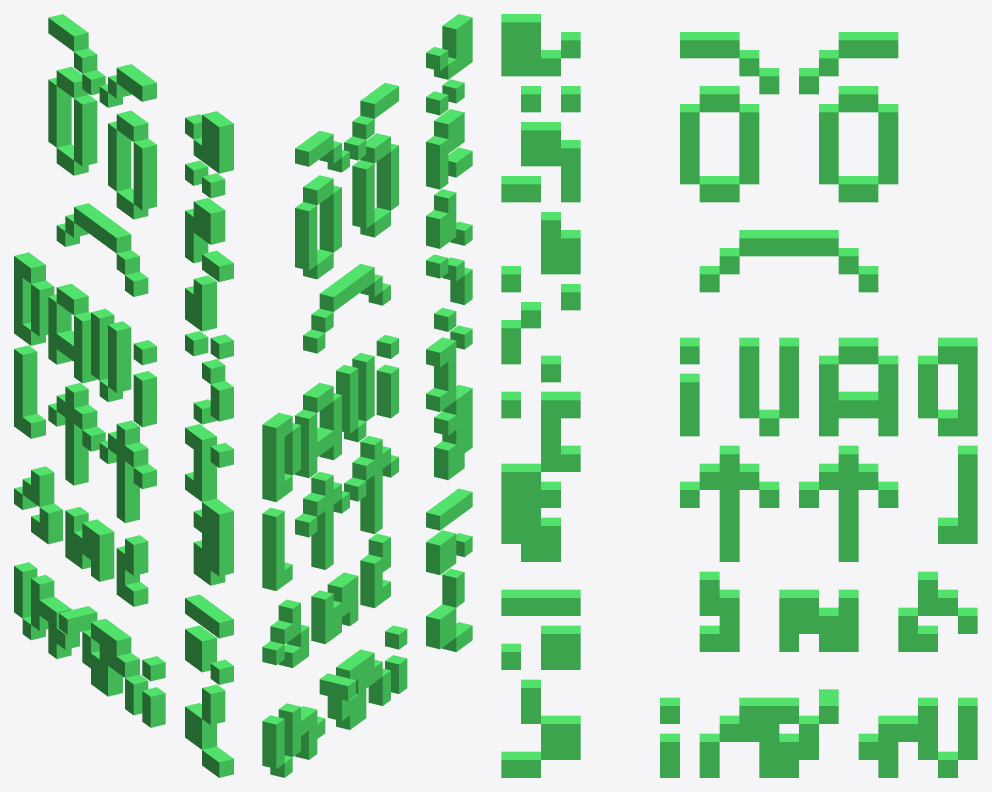
File: House-0.obj
The picture shows the model from 3 angles, left to right: view 1: azimuth 30°, elevation 25°; view 2: azimuth 150°, elevation 25°; view 3: azimuth 270°, elevation 25°; orthographic projection. The views are drawn at different scales.
Size of the model in its own units: 0.2 by 4.2 by 2.4.
Materials: 1 (1 with a texture image).
